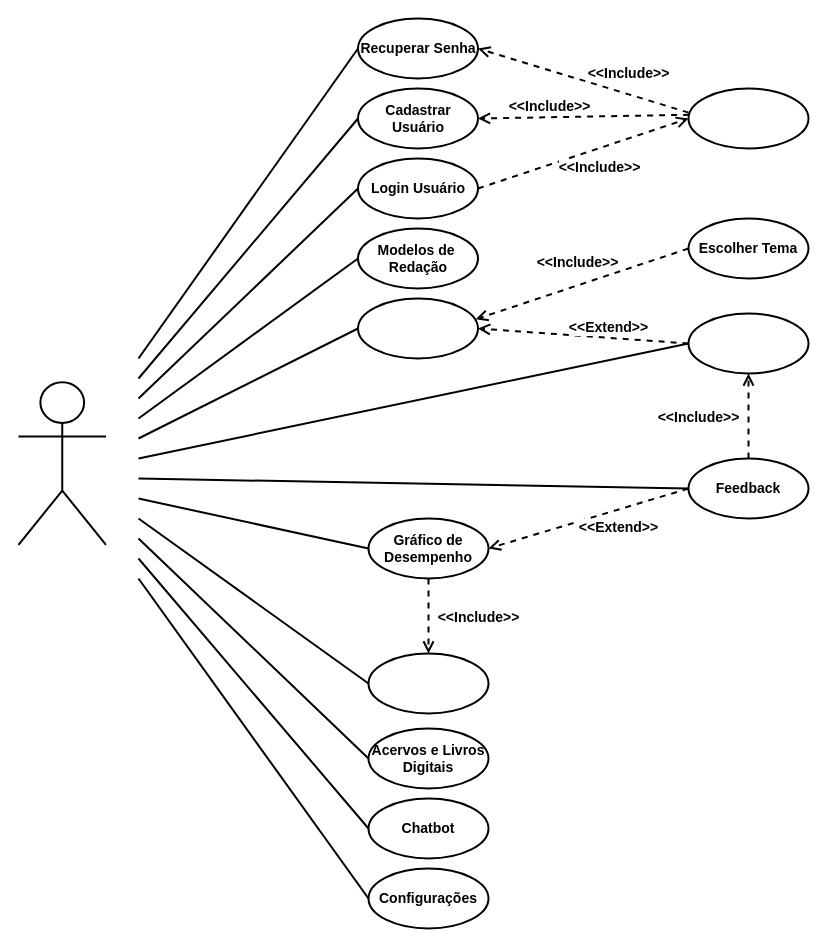
This 826x946 diagram has some shape labels left out. The shapes that lost their labels are listed below. From the top down, each one's box as (x1, y1, x2, y2) in pixels, then its label:
(687, 87, 809, 149): Verificar Cadastro
(356, 297, 478, 359): Redação
(687, 312, 809, 374): Correção IA
(17, 381, 106, 545): Usuário
(367, 652, 489, 714): Histórico de Redações
